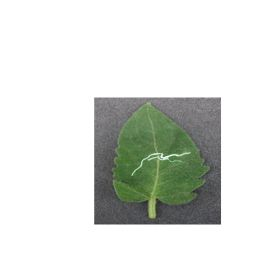liriomyza: (130, 150, 191, 176)
